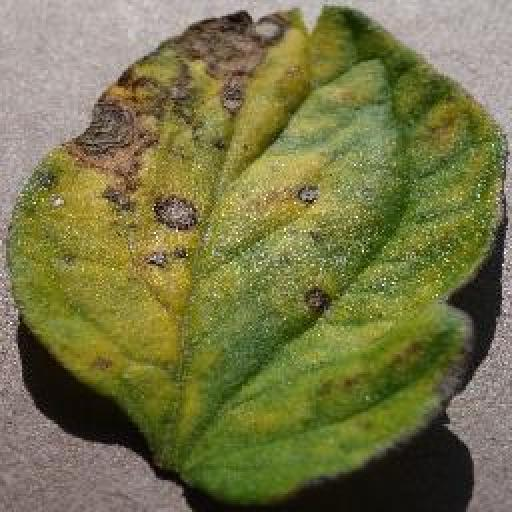Early Blight: (4, 5, 511, 512)
